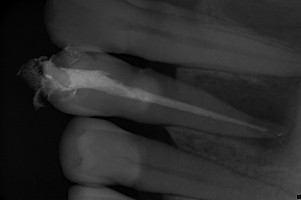Furcation Involvement: (184, 72, 301, 152)
